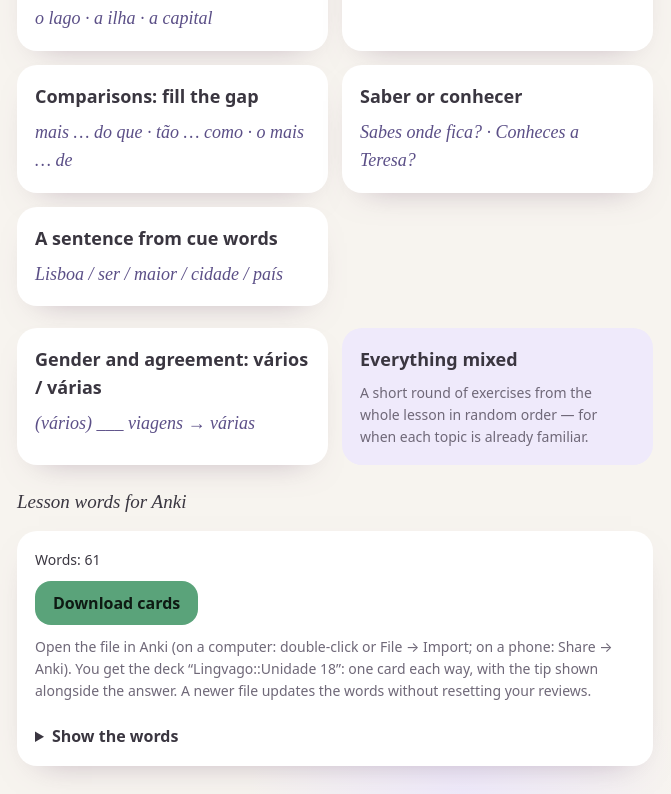
Test: Pack overview › downloads the prebuilt Anki package in the interface language
(page scrolled)
Click the button with test id "pack-anki-download". click: point(117, 604)
box: x1=35 y1=582 x2=198 y2=626
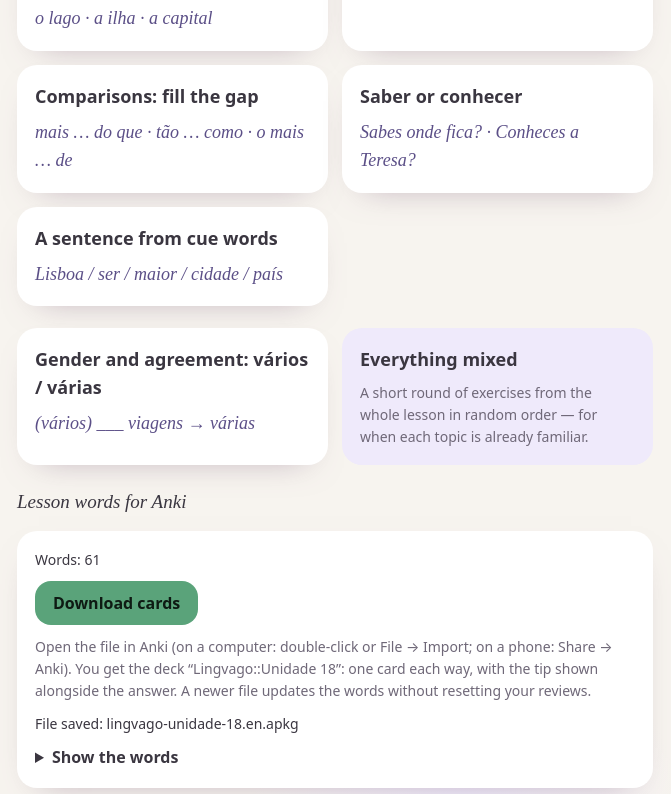
expect the message with test id "pack-anki-status" reads "File saved: lingvago-unidade-18.en.apkg": met, box x1=35 y1=714 x2=299 y2=732
